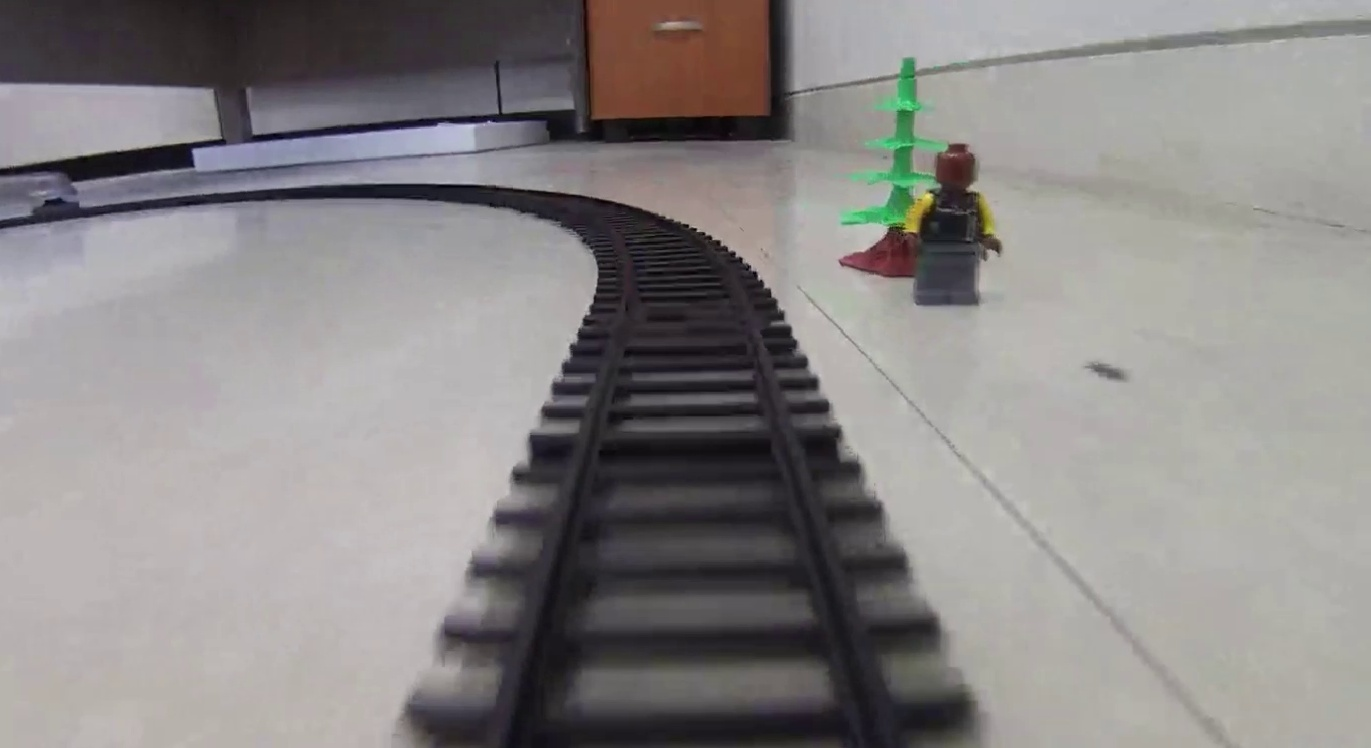people: (905, 143, 1001, 307)
tree: (843, 58, 939, 275)
